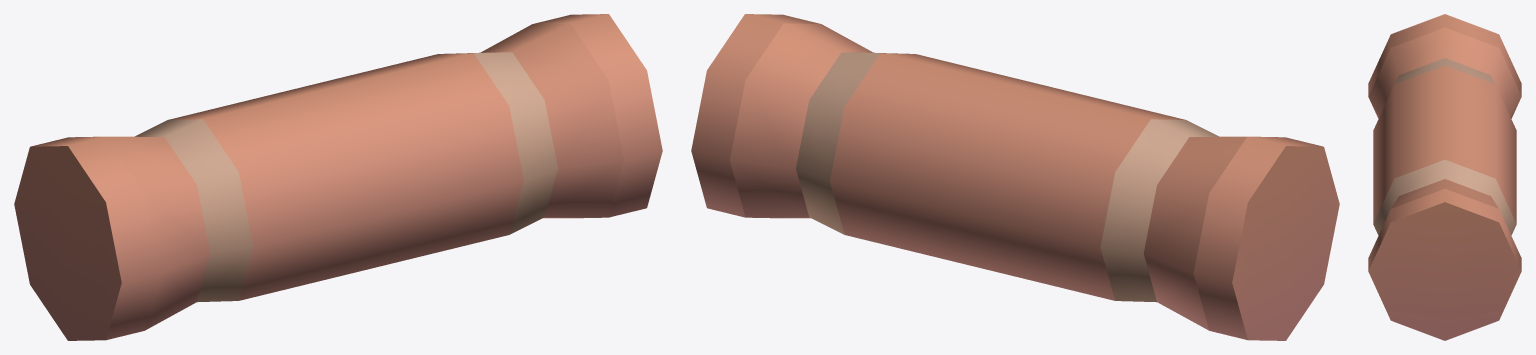
File: bedroll-packed.glb
3 views of the same model, side by side, from view 1: azimuth 30°, elevation 25°; view 2: azimuth 150°, elevation 25°; view 3: azimuth 270°, elevation 25° (orthographic). The views are drawn at different scales.
Parts seen in each view (by area): view 1: bedroll-packed; view 2: bedroll-packed; view 3: bedroll-packed.
Part boxes in pixels (x1=…): bedroll-packed: x1=14, y1=14, x2=662, y2=340; bedroll-packed: x1=691, y1=14, x2=1339, y2=340; bedroll-packed: x1=1368, y1=14, x2=1521, y2=340.
Size of the model in its own units: 0.2604 by 0.0897 by 0.0897.
